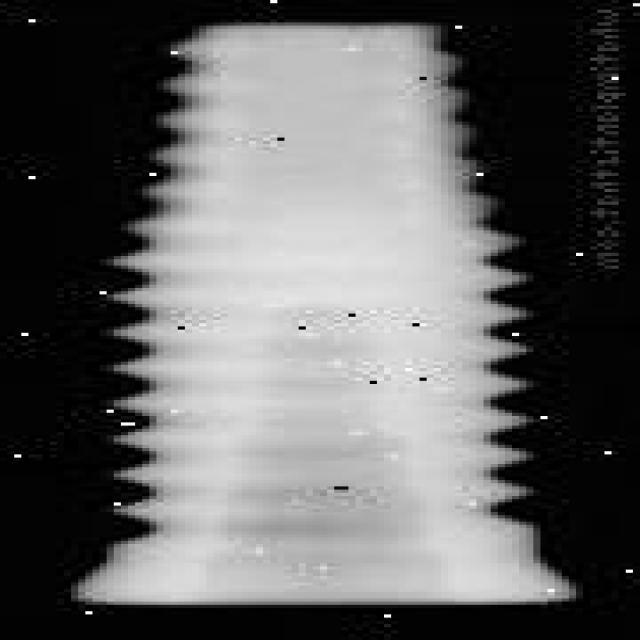Retained root: (71, 19, 583, 605)
